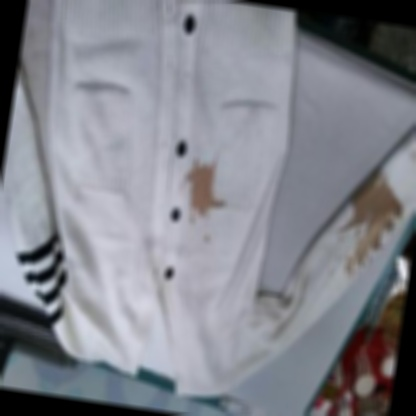coffee: (348, 178, 401, 234), (187, 162, 216, 213)
